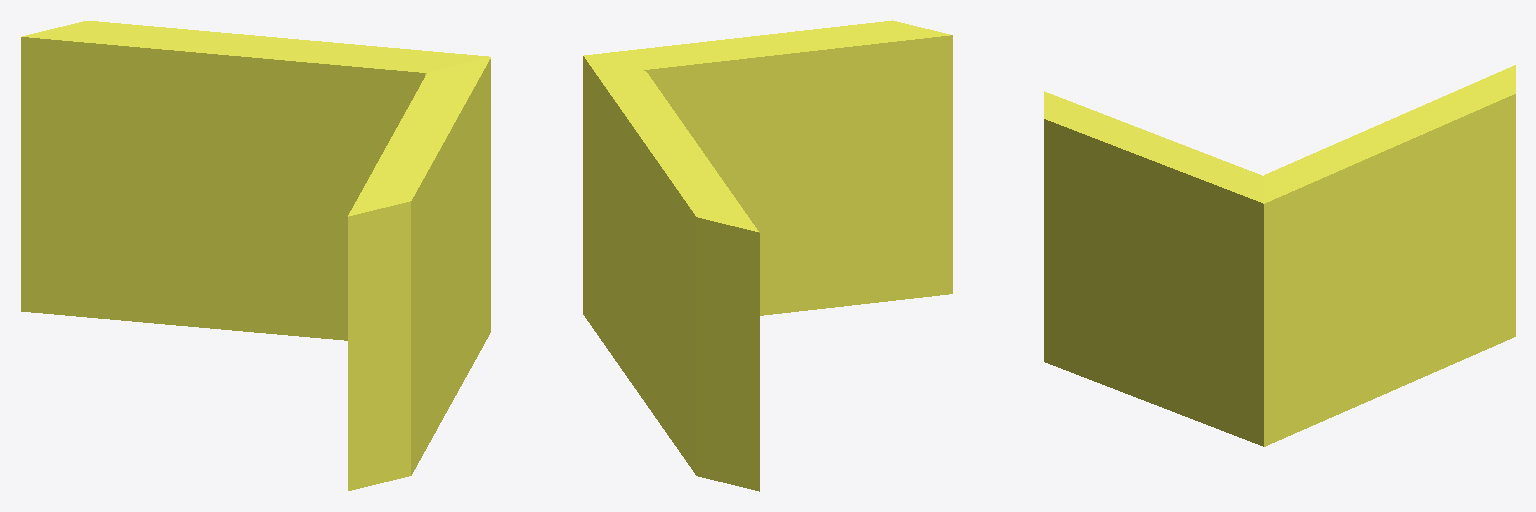
robot.urdf — env.urdf:
<?xml version="0.0" ?>
<robot name="env.urdf">
  <link name="baseLink">
    <contact>
      <lateral_friction value="1.0"/>
      <rolling_friction value="0.0"/>
      <contact_cfm value="0.0"/>
      <contact_erp value="1.0"/>
    </contact>
    <inertial>
      <origin rpy="0 0 0" xyz="0.0 0.02 0.0"/>
       <mass value="0"/>
       <inertia ixx="1" ixy="0" ixz="0" iyy="1" iyz="0" izz="1"/>
    </inertial>
    <visual>
      <origin rpy="0 0 0" xyz="0 0 0"/>
      <geometry>
        <mesh filename="wall5.obj" scale="1 1 1"/>
      </geometry>
       <material name="yellow">
        <color rgba="1 1 0.4 1"/>
      </material>
    </visual>
    <collision>
      <origin rpy="0 0 0" xyz="0 0 0"/>
      <geometry>
	 	<mesh filename="wall5.obj" scale="1 1 1"/>
      </geometry>
    </collision>
  </link>
</robot>

--- Facts derived from the render (not from the file) ---
Views: 3 orthographic renders of the robot side by side, from view 1: azimuth 30°, elevation 25°; view 2: azimuth 150°, elevation 25°; view 3: azimuth 270°, elevation 25°.
Model env.urdf with 1 links and 0 joints (none), rooted at baseLink, posed all joints at 0.
Links seen in each view (by area): view 1: baseLink; view 2: baseLink; view 3: baseLink.
Link boxes in pixels (x1,y1,x2,y2): baseLink: (21, 21, 490, 490); baseLink: (583, 20, 952, 491); baseLink: (1044, 65, 1515, 446).
Bounding box of the posed robot: 1.05 × 1.48 × 0.8522 m (x, y, z).
Meshes: 1 distinct files referenced, 1 mesh visuals loaded (1 OBJ).